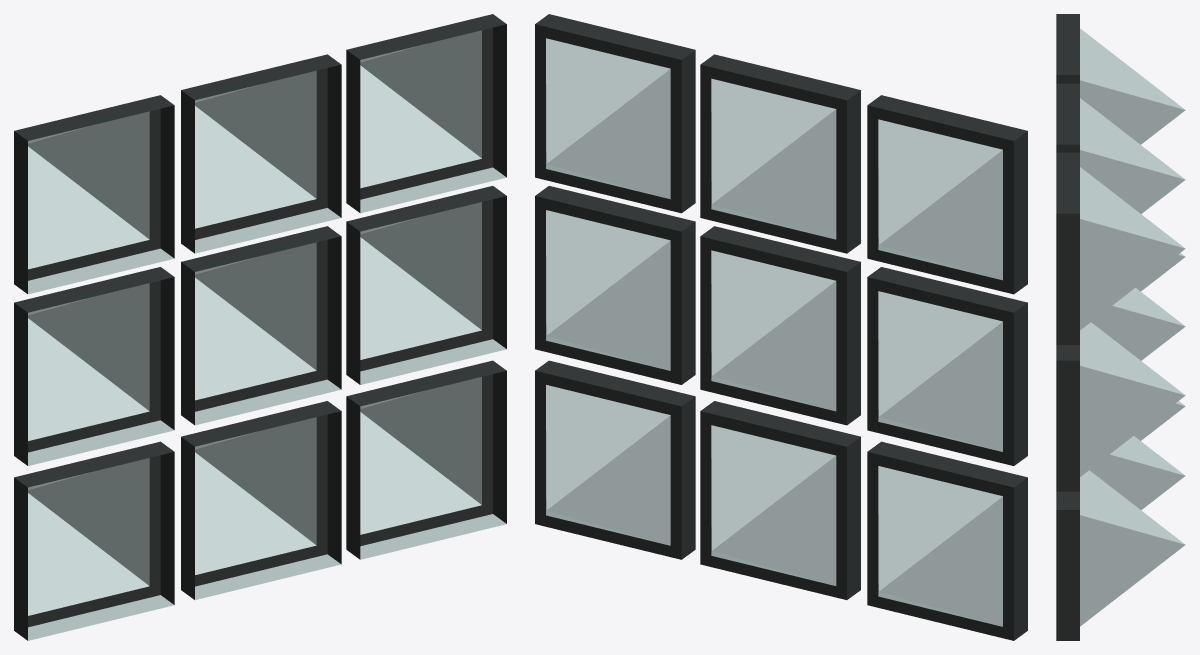
Rendered from Trap 01.FBX.
3 views of the same model, side by side, from view 1: azimuth 30°, elevation 25°; view 2: azimuth 150°, elevation 25°; view 3: azimuth 270°, elevation 25° (orthographic). The views are drawn at different scales.
Parts seen in each view (by area): view 1: Trap 01; view 2: Trap 01; view 3: Trap 01.
Boxes of the visible parts, <box> form: Trap 01: <box>14,14,506,640</box>; Trap 01: <box>535,14,1027,640</box>; Trap 01: <box>1056,14,1185,640</box>.
Size of the model in its own units: 89.8 by 89.58 by 24.6.
1 material, 1 textured.
